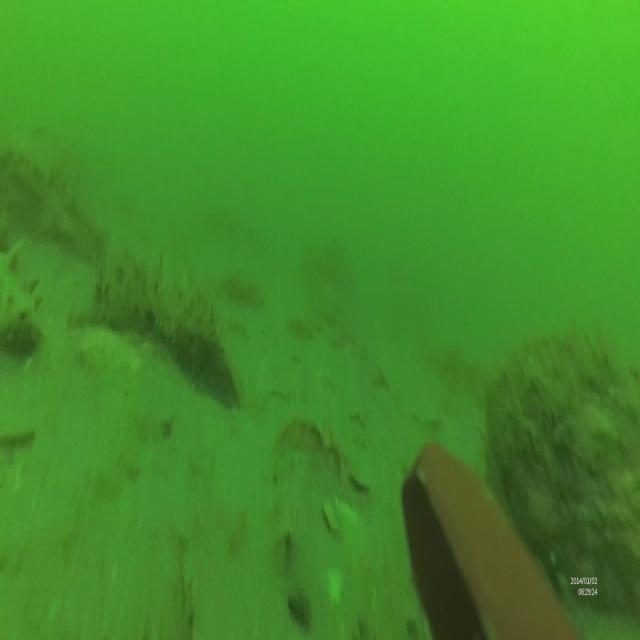holothurian: (2, 142, 106, 260), (1, 227, 46, 364)
